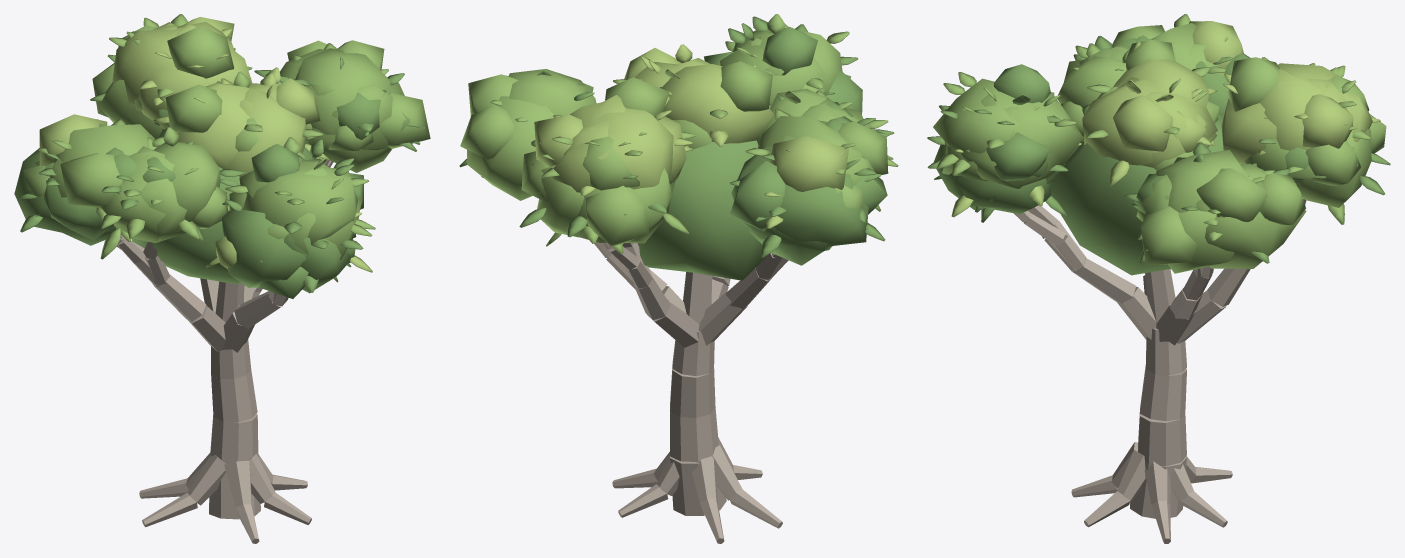
File: Tree_Old_1.gltf
3 renders of one model, left to right at view 1: azimuth 30°, elevation 25°; view 2: azimuth 150°, elevation 25°; view 3: azimuth 270°, elevation 25°, orthographic. The views are drawn at different scales.
Parts seen in each view (by area): view 1: Tree_Old_1; view 2: Tree_Old_1; view 3: Tree_Old_1.
Part boxes in pixels (x1,y1,x2,y2): Tree_Old_1: (14,14,430,543); Tree_Old_1: (459,14,898,543); Tree_Old_1: (927,14,1390,543).
Bounding box in the file's own units: 4.39 × 4.79 × 4.38.
